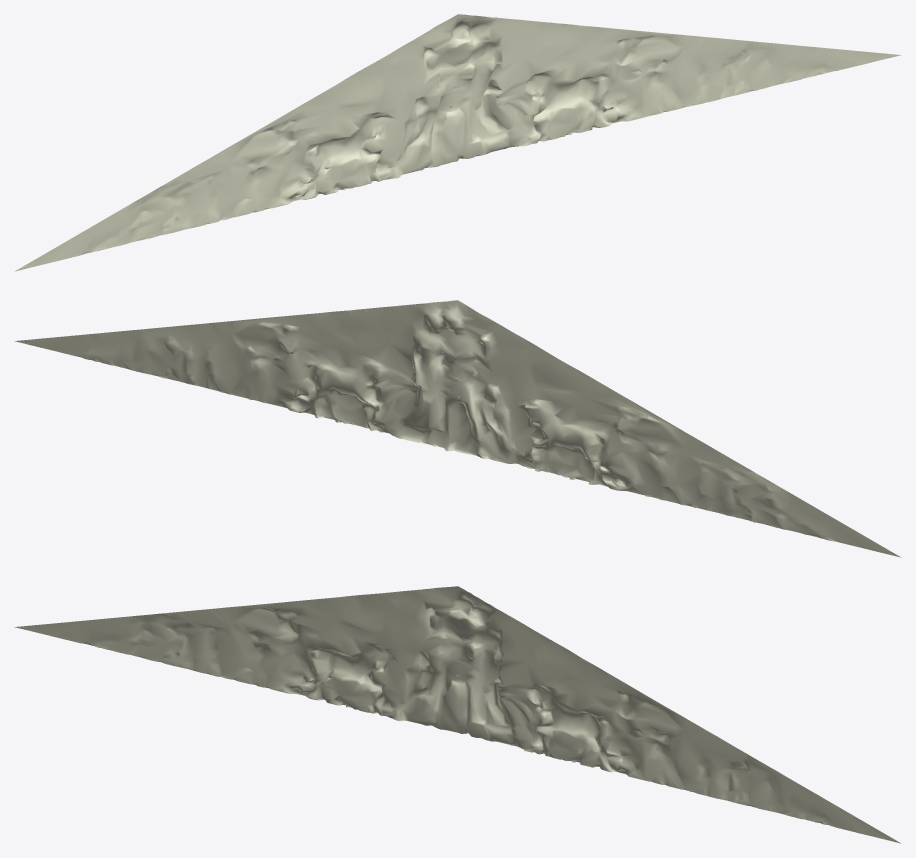
File: E_roof.glb
The picture shows the model from 3 angles, top to bottom: view 1: azimuth 30°, elevation 25°; view 2: azimuth 150°, elevation 25°; view 3: azimuth 330°, elevation 25°; orthographic projection.
Parts seen in each view (by area): view 1: E_roof_low(Clone); view 2: E_roof_low(Clone); view 3: E_roof_low(Clone).
Part boxes in pixels (left/top/right/bottom): E_roof_low(Clone): left=15, top=14, right=901, bottom=271; E_roof_low(Clone): left=14, top=300, right=901, bottom=557; E_roof_low(Clone): left=14, top=586, right=900, bottom=843.
Bounding box in the file's own units: 43.77 × 7.03 × 0.5532.
